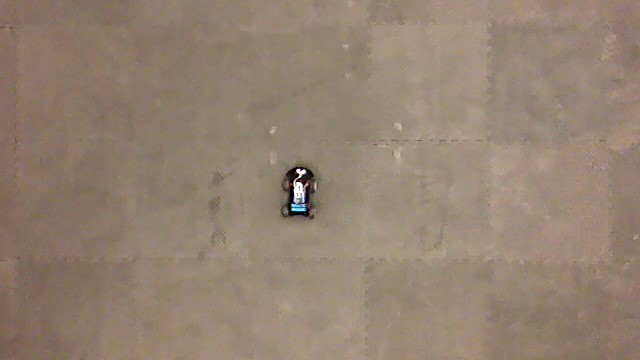Agent: (280, 164, 320, 222)
